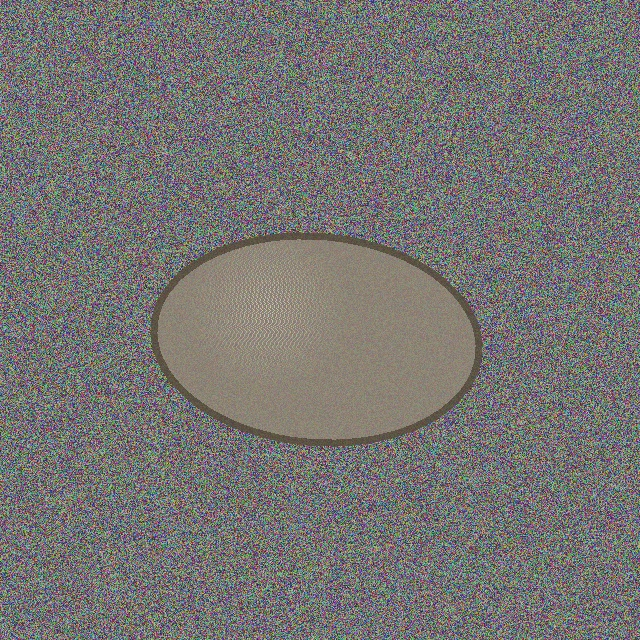lens: (154, 236, 478, 442)
